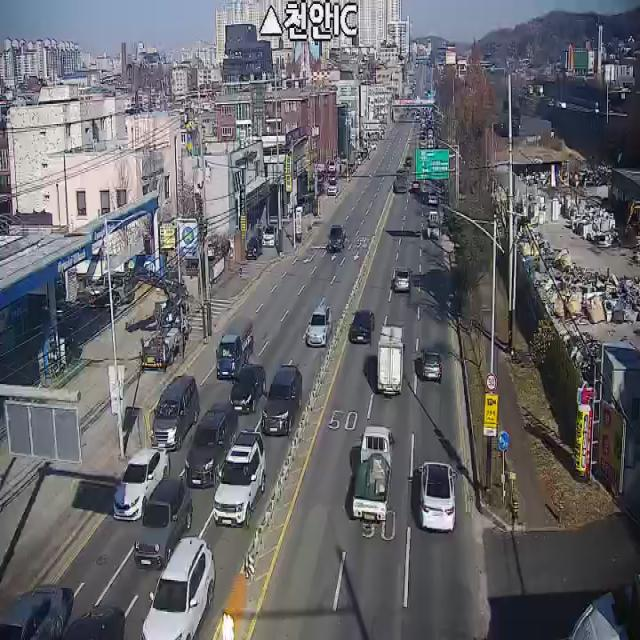Car: (139, 536, 213, 640), (134, 477, 193, 571), (212, 430, 266, 528), (185, 401, 237, 489), (113, 447, 169, 521), (150, 375, 200, 452), (0, 585, 67, 640), (261, 363, 303, 437), (418, 461, 457, 532), (62, 605, 125, 640), (229, 364, 266, 416), (96, 271, 133, 306), (305, 305, 332, 348), (350, 309, 375, 346), (422, 351, 441, 383), (327, 224, 346, 253), (245, 236, 263, 260), (394, 268, 410, 292), (262, 224, 278, 247), (327, 178, 339, 196), (428, 192, 438, 205), (412, 180, 422, 192)
Truck: (135, 267, 189, 374), (352, 425, 395, 523), (215, 316, 253, 382), (377, 324, 404, 396), (427, 211, 441, 240), (394, 170, 408, 193)
